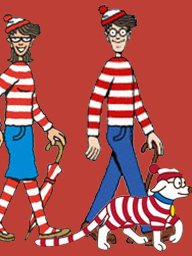waldo: (99, 5, 137, 53)
